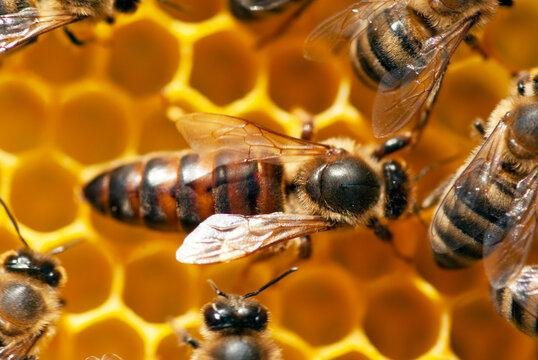Queen-Bee: (82, 113, 411, 263)
